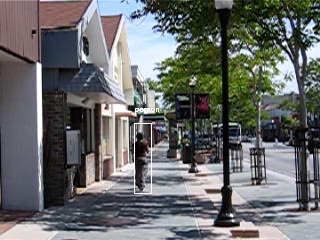person: (131, 133, 150, 192), (130, 133, 149, 192), (132, 133, 151, 192), (131, 132, 150, 191), (131, 134, 150, 193)
target_negative: (208, 118, 312, 221), (79, 135, 122, 177), (162, 195, 189, 216), (6, 174, 12, 190), (300, 213, 308, 220)
